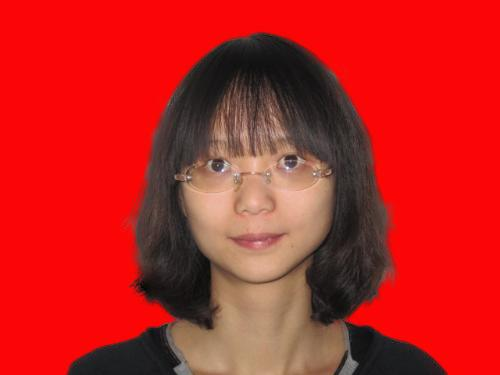unmask: (180, 134, 346, 283)
